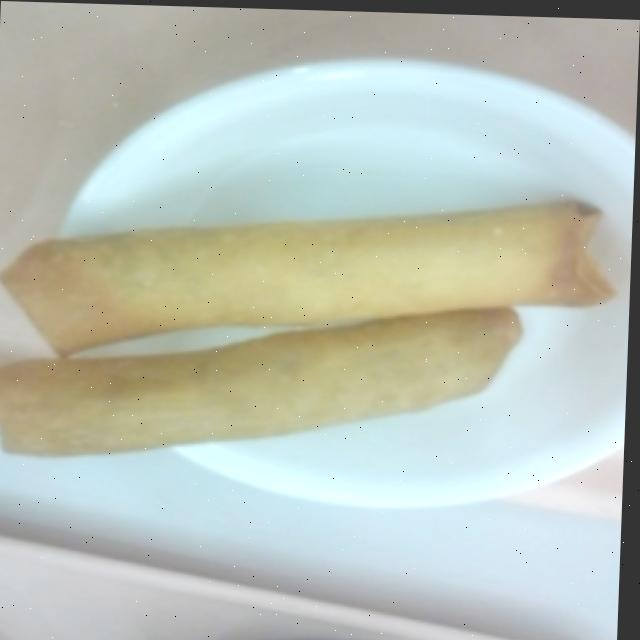鸡蛋料理: (0, 205, 608, 395), (0, 327, 423, 484)
